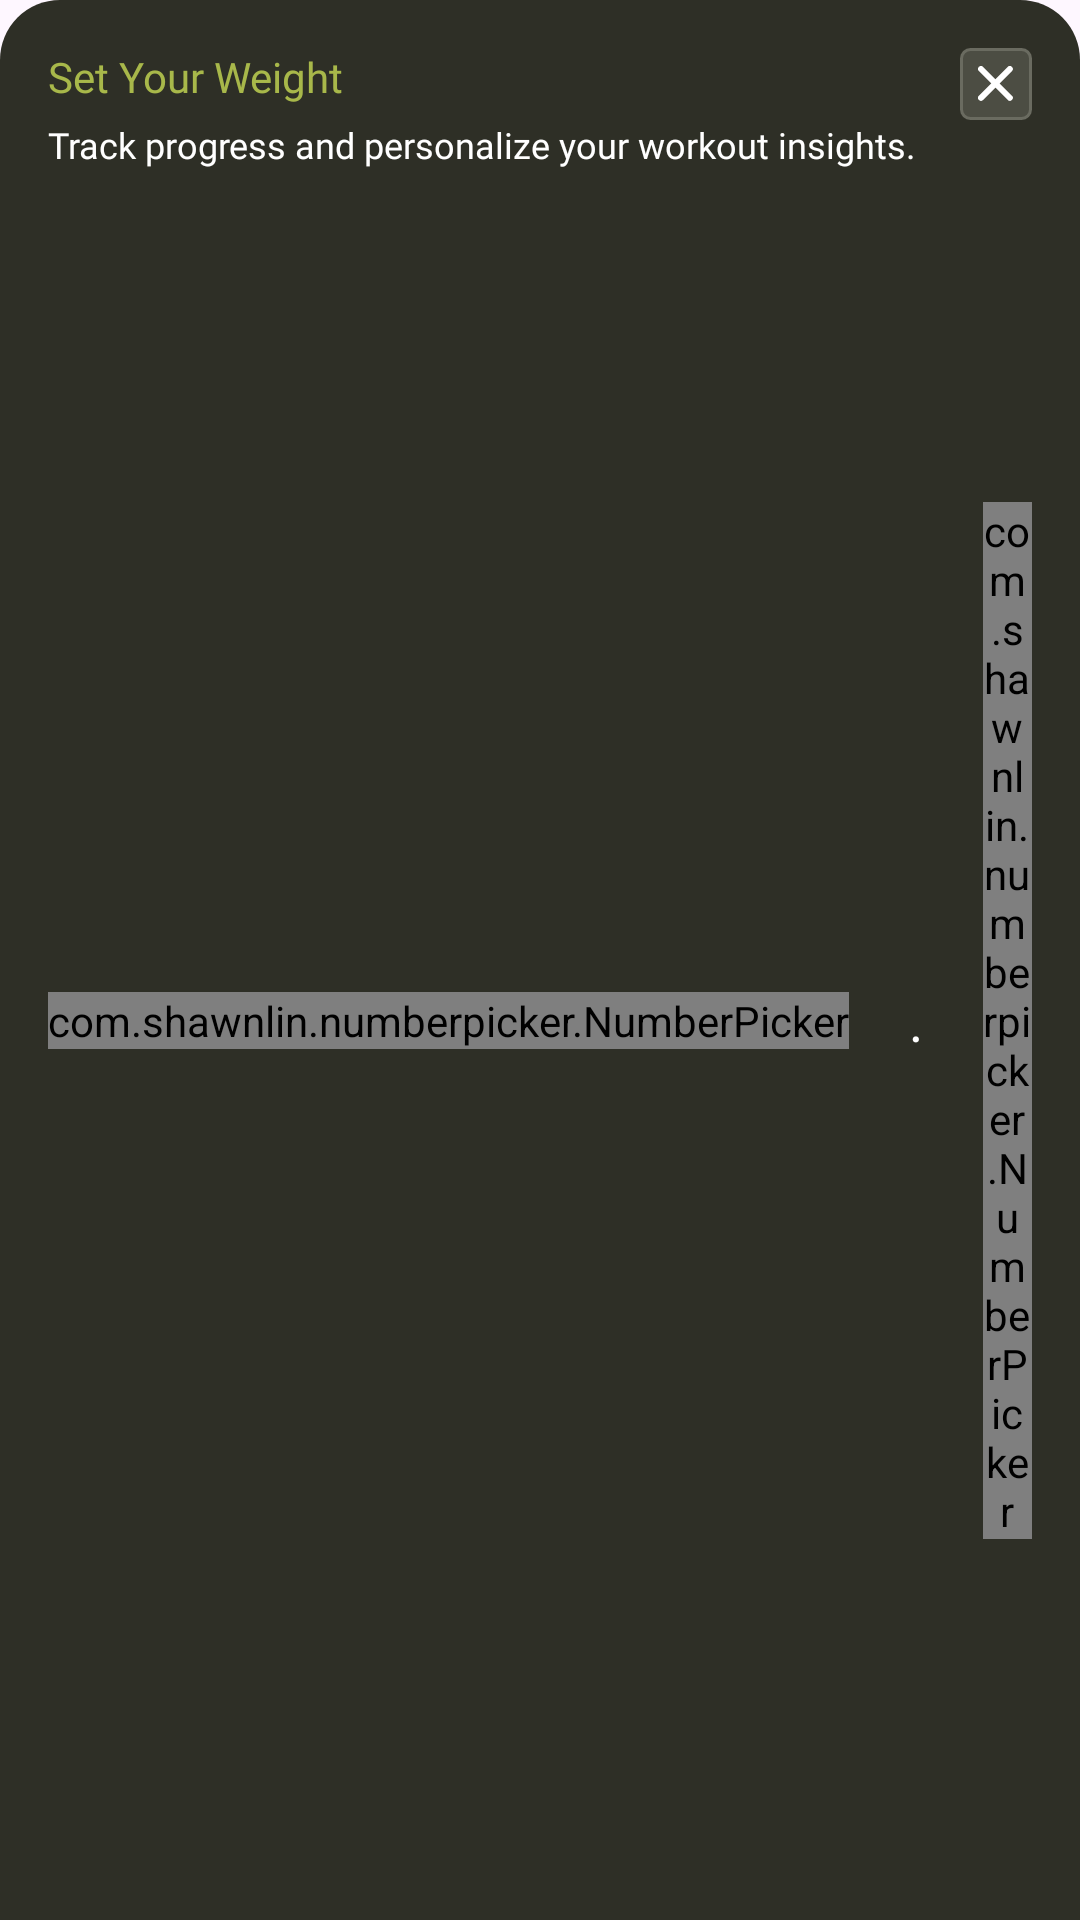

Screen size 1080 x 1920. Icon name, then its center in pixels as (x,y):
cancel: (995,83)
